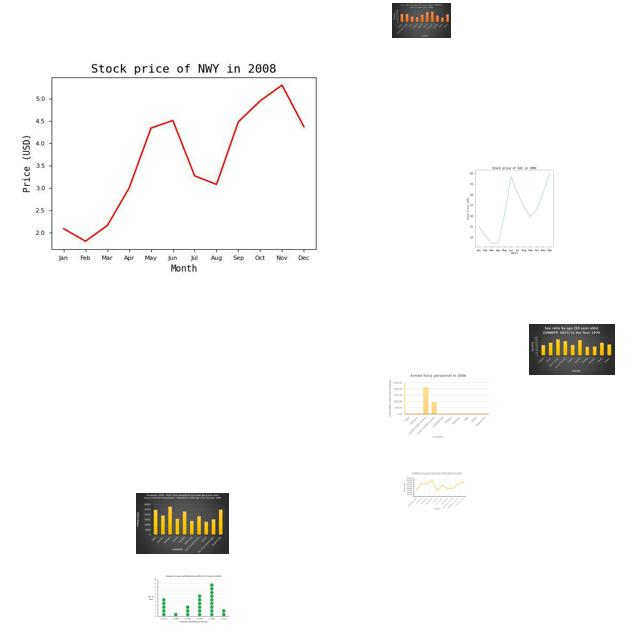Graph: (9, 45, 350, 279), (440, 158, 585, 258), (387, 372, 491, 441), (136, 493, 229, 554), (146, 573, 231, 625), (529, 324, 615, 375), (403, 472, 467, 510), (392, 3, 451, 38)
